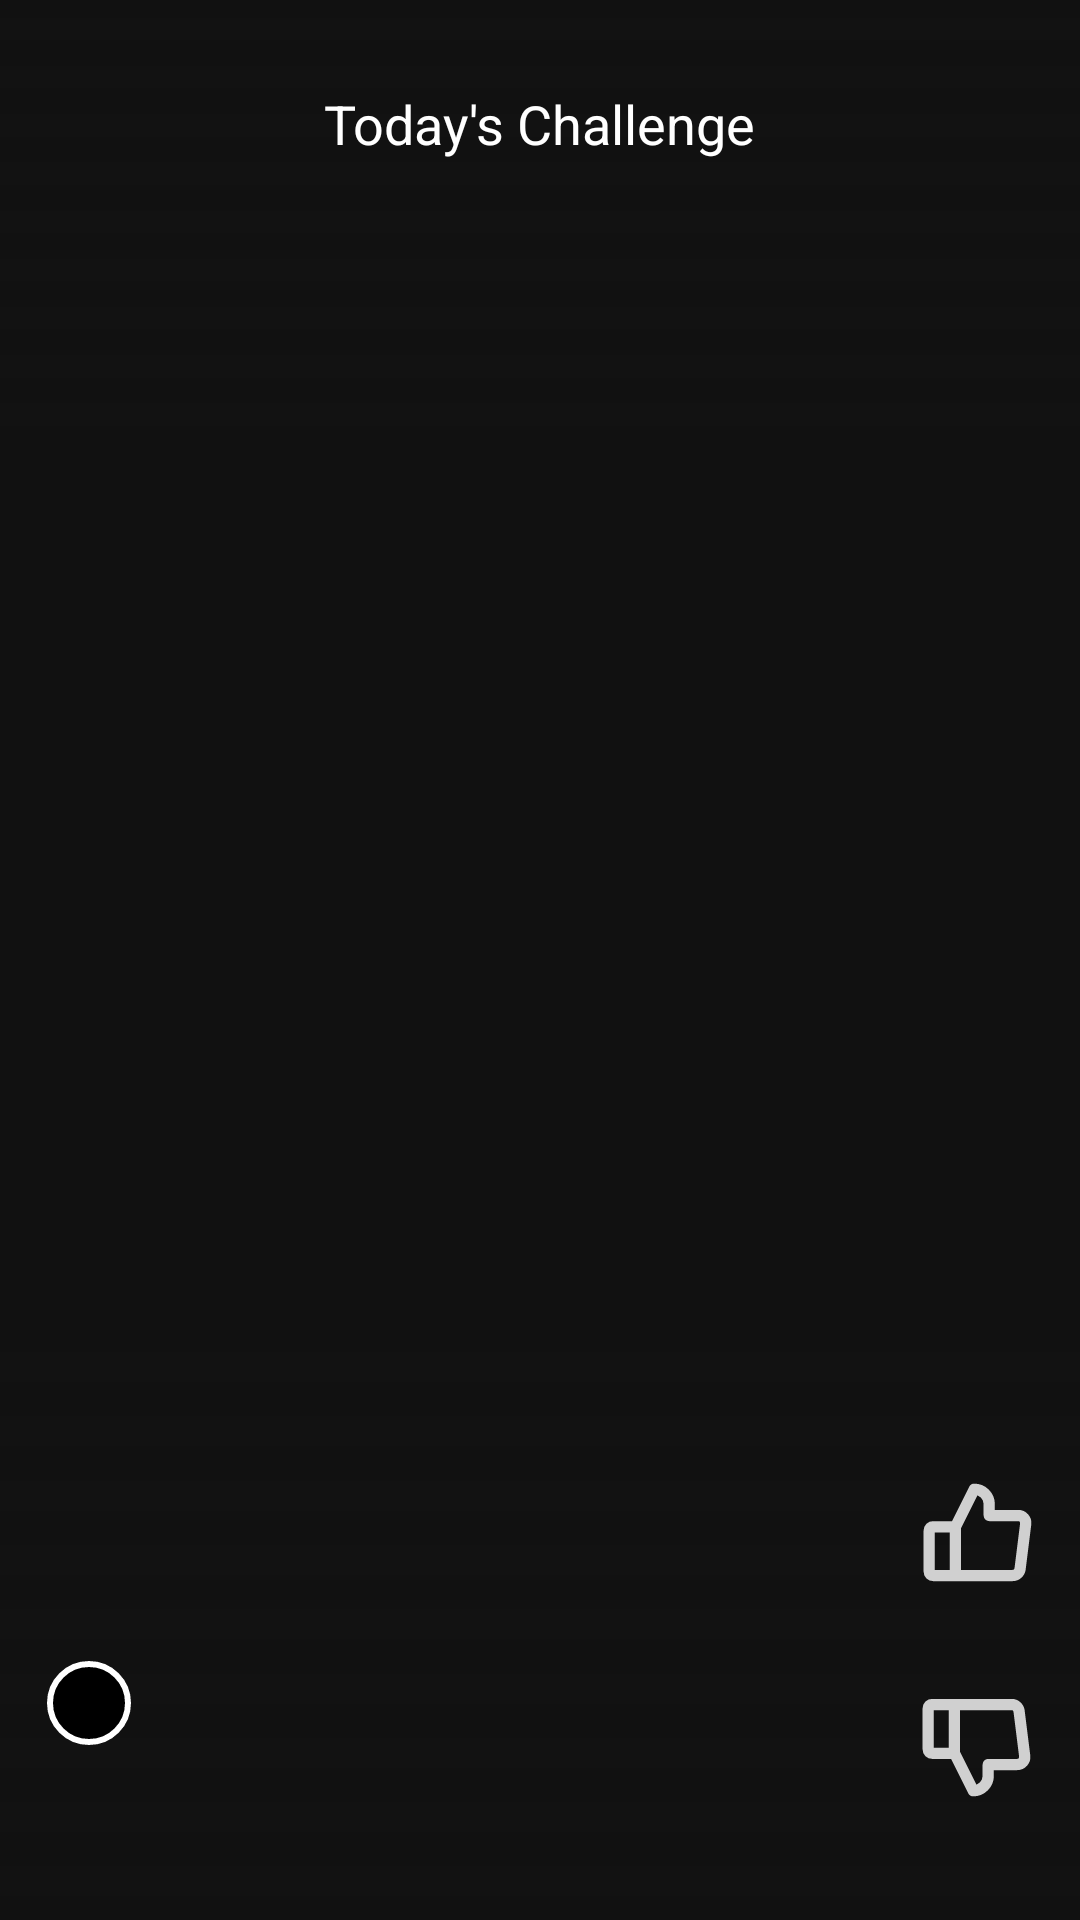

Icons on this 1080x1920 Android screen, each with its box as box=[x1, y1, x2, y2]:
thumbs down: box=[922, 1699, 1031, 1797]
thumbs up: box=[923, 1483, 1032, 1582]
